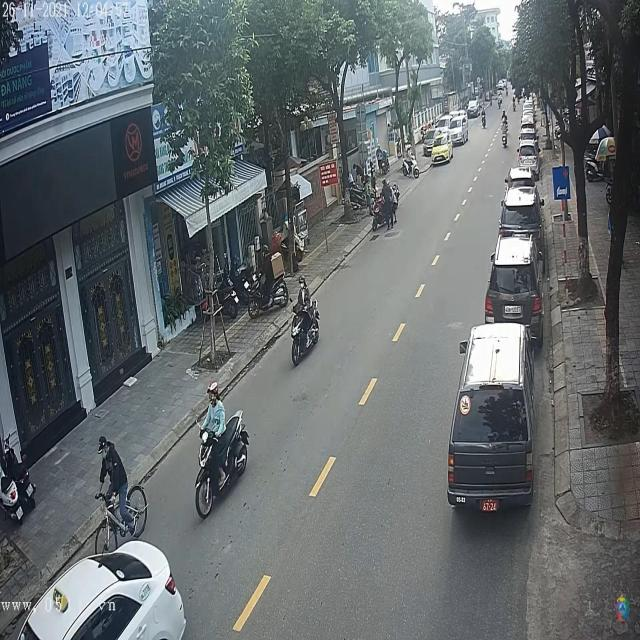car: (449, 326, 534, 511), (486, 232, 542, 331), (500, 186, 544, 238), (468, 99, 481, 118)
motorcycle: (194, 415, 250, 520), (290, 297, 322, 365)
